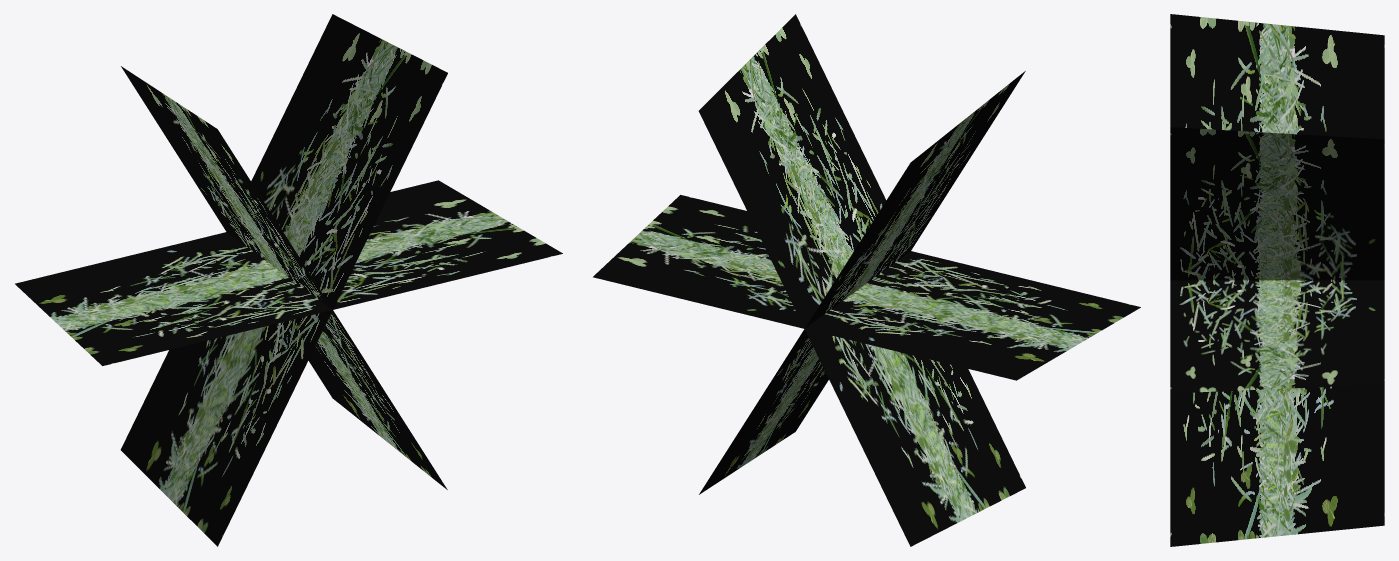
Rendered from GrassCard_Tiny.glb.
3 views of the same model, side by side, from view 1: azimuth 30°, elevation 25°; view 2: azimuth 150°, elevation 25°; view 3: azimuth 270°, elevation 25° (orthographic).
Visible parts, largest first — view 1: GrassCard_Tiny; view 2: GrassCard_Tiny; view 3: GrassCard_Tiny.
Part boxes in pixels (<box>): GrassCard_Tiny: <box>15,14,562,546</box>; GrassCard_Tiny: <box>593,14,1140,546</box>; GrassCard_Tiny: <box>1170,14,1384,546</box>.
Size of the model in its own units: 0.15 by 0.1299 by 0.06.
1 material, 1 textured.
